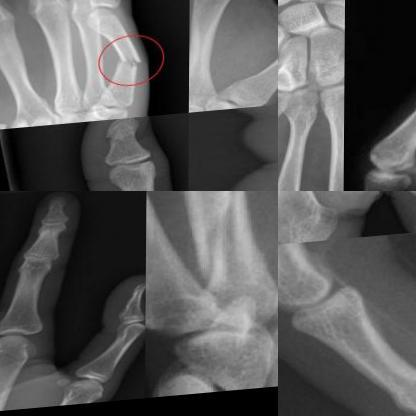fracture: (182, 191, 262, 299), (99, 119, 147, 155), (110, 48, 149, 83)
